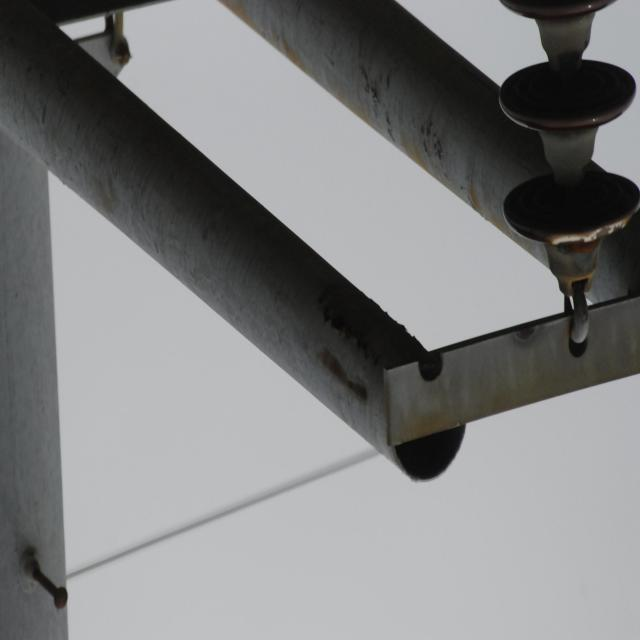insulator: (498, 1, 640, 246)
